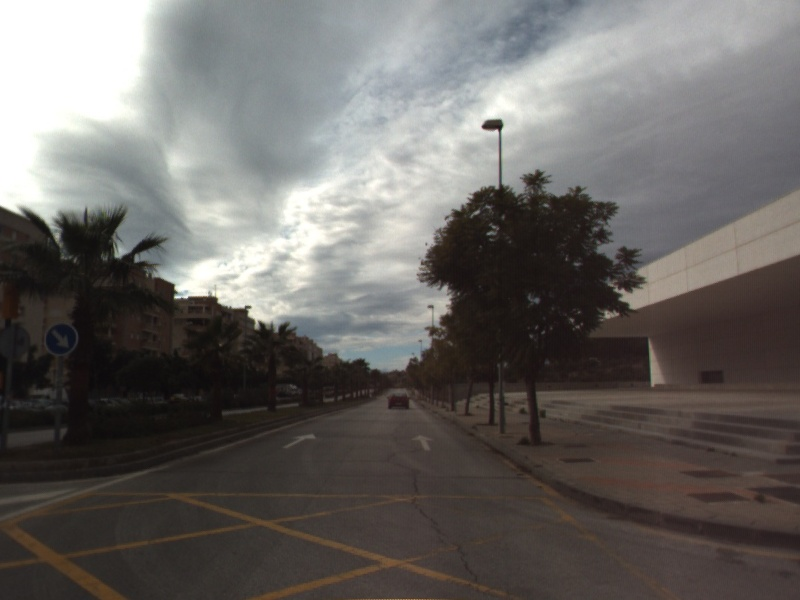STRAIGHT: (280, 431, 318, 451), (409, 433, 436, 453)
